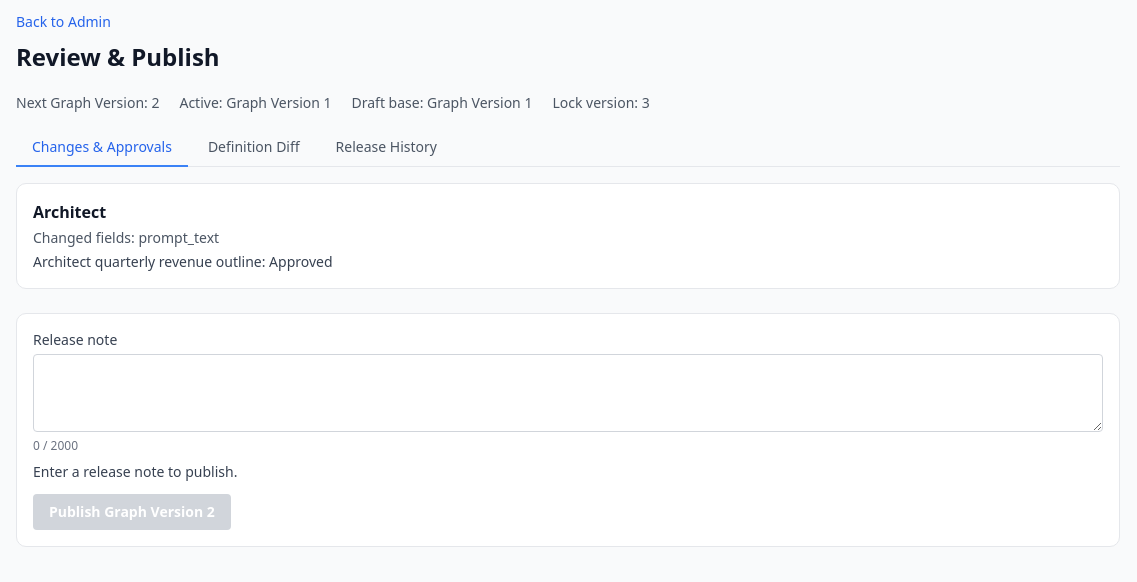
Test: ReviewAndPublishPage: the preview › renders prompt text as text, never as markup
Expected: the text "Next Graph Version: 2" is shown, 16,93 -> 160,113
Click the tab with test id "release-diff-tab". click: (254, 148)
box: 192,129 -> 316,167
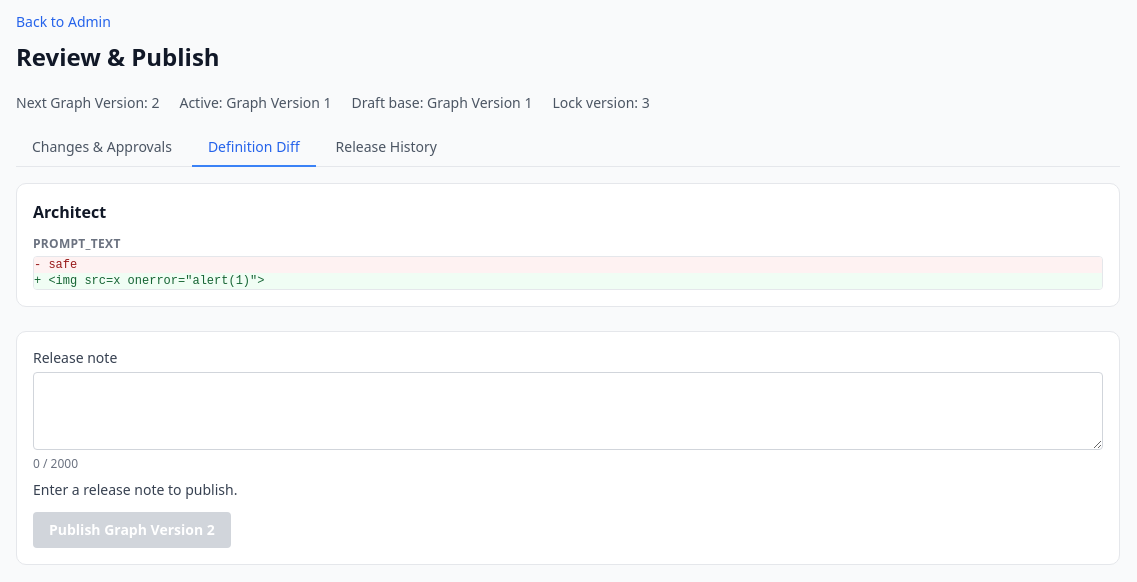
Expected: the list item "+ <img src=x onerror=\"alert(1)\">" is shown, 34,273 -> 1102,289
